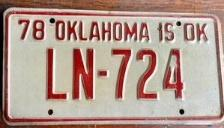2: (135, 47, 160, 101)
4: (161, 47, 186, 101)
7: (110, 47, 134, 102)
L: (45, 47, 70, 101)
N: (70, 47, 95, 102)
